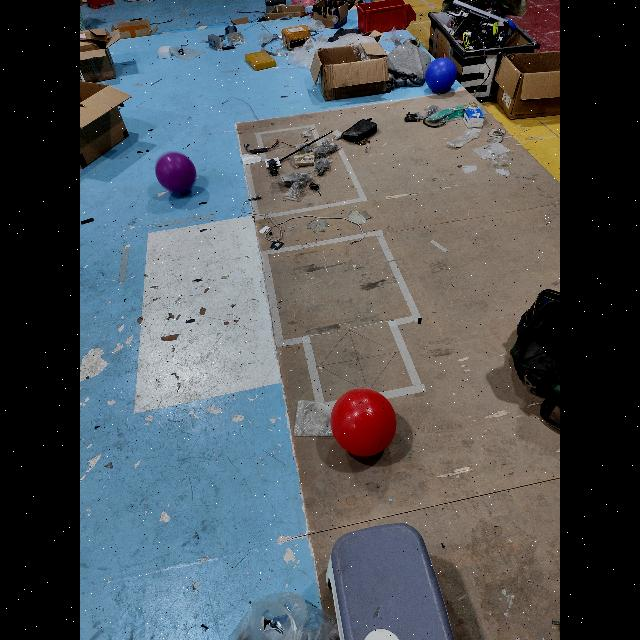B: (425, 58, 459, 94)
P: (156, 152, 198, 196)
R: (330, 386, 398, 458)
